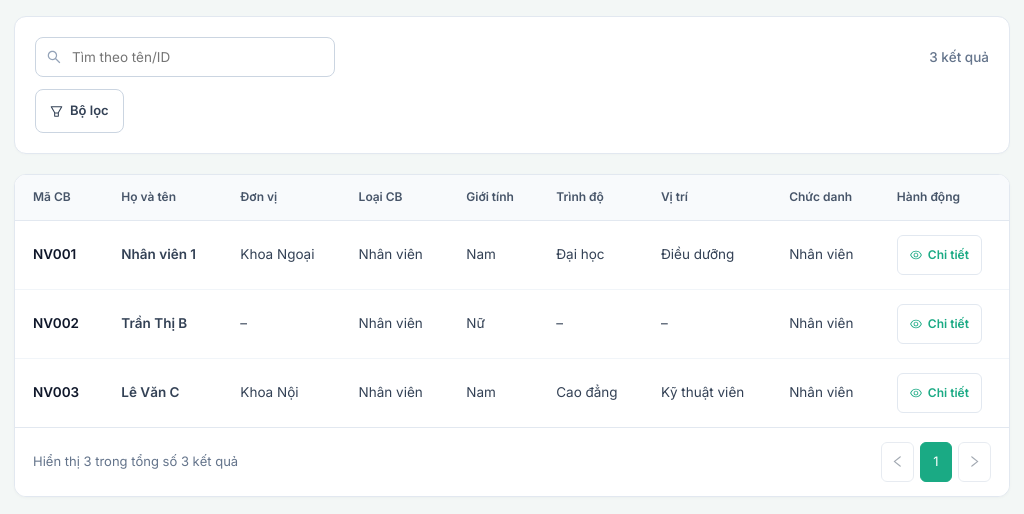
Test: ReferenceEmployeesListPage - tìm kiếm và lọc › tìm theo tên và mã nhân viên
Expected: the text "Nhân viên 1" is shown, [121,246,196,262]
Type "trần" into the field with placeholder "Tìm theo tên/ID".
click(185, 57); type("trần")  # box [35,37,335,77]
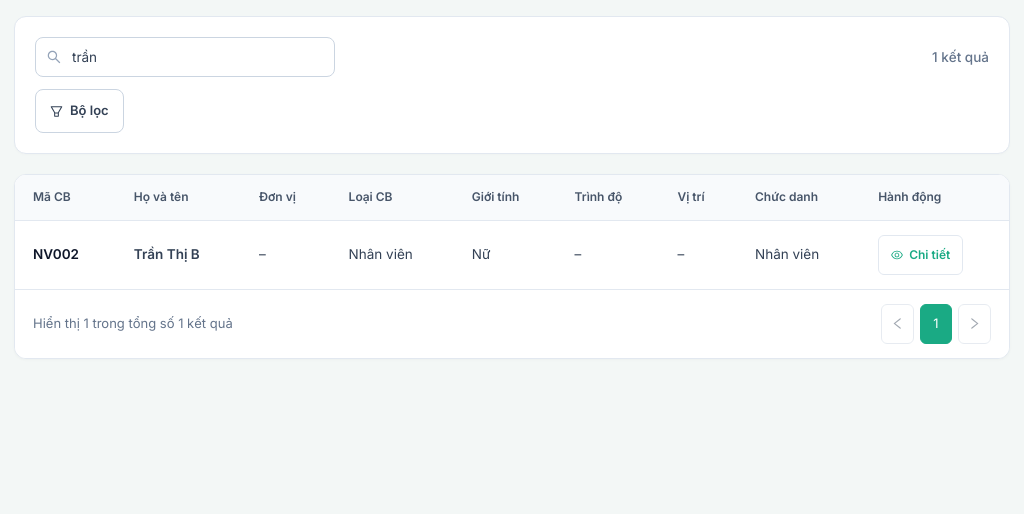
Expected: the text "Trần Thị B" is shown, [134,246,200,262]
Expected: the text "Nhân viên 1" is gone
Replace the text in the field with placeholder "Tìm theo tên/ID" with "nv003" at point(185, 57), box [35,37,335,77]
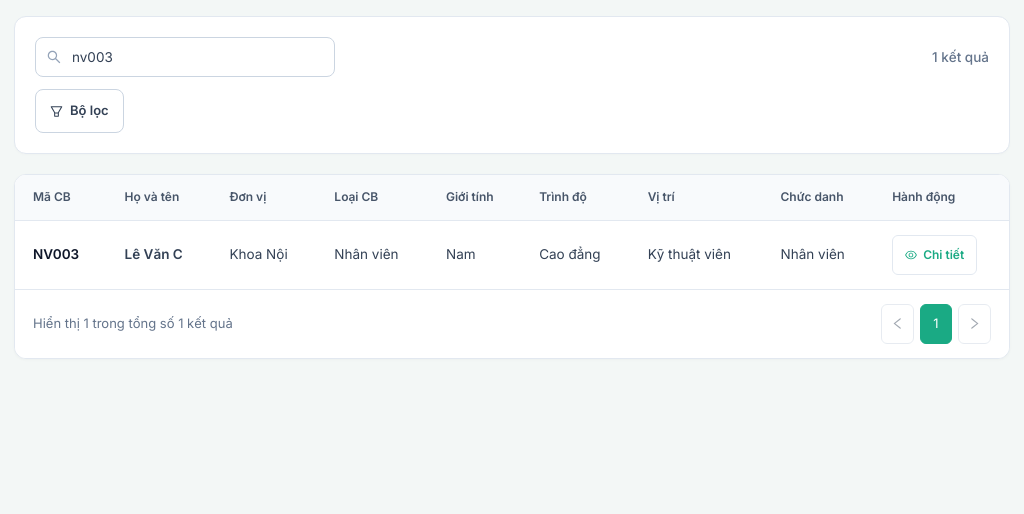
Expected: the text "Lê Văn C" is shown, [124,246,183,262]
Replace the text in the field with placeholder "Tìm theo tên/ID" with "không có" at point(185, 57), box [35,37,335,77]
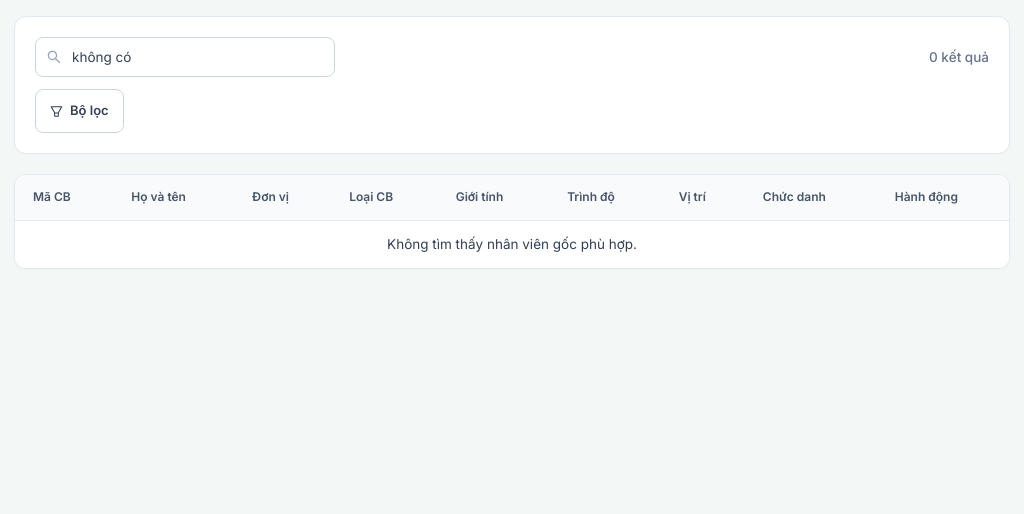
Expected: the text "Không tìm thấy nhân viên gốc phù hợp." is shown, [15,220,1009,268]
